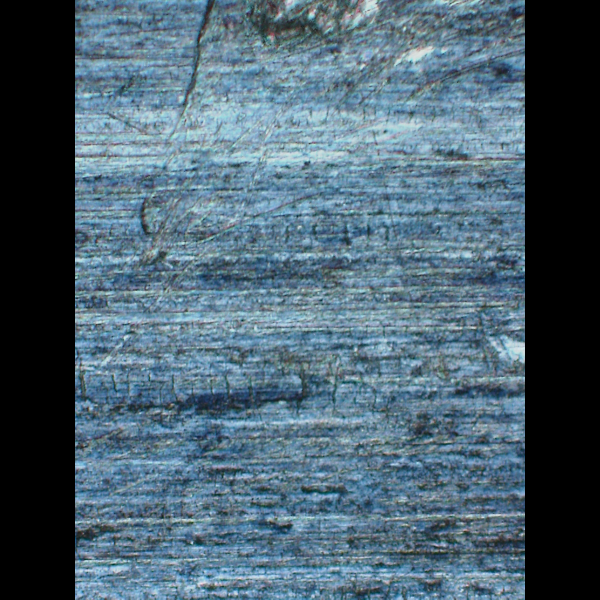d: (128, 0, 464, 297)
